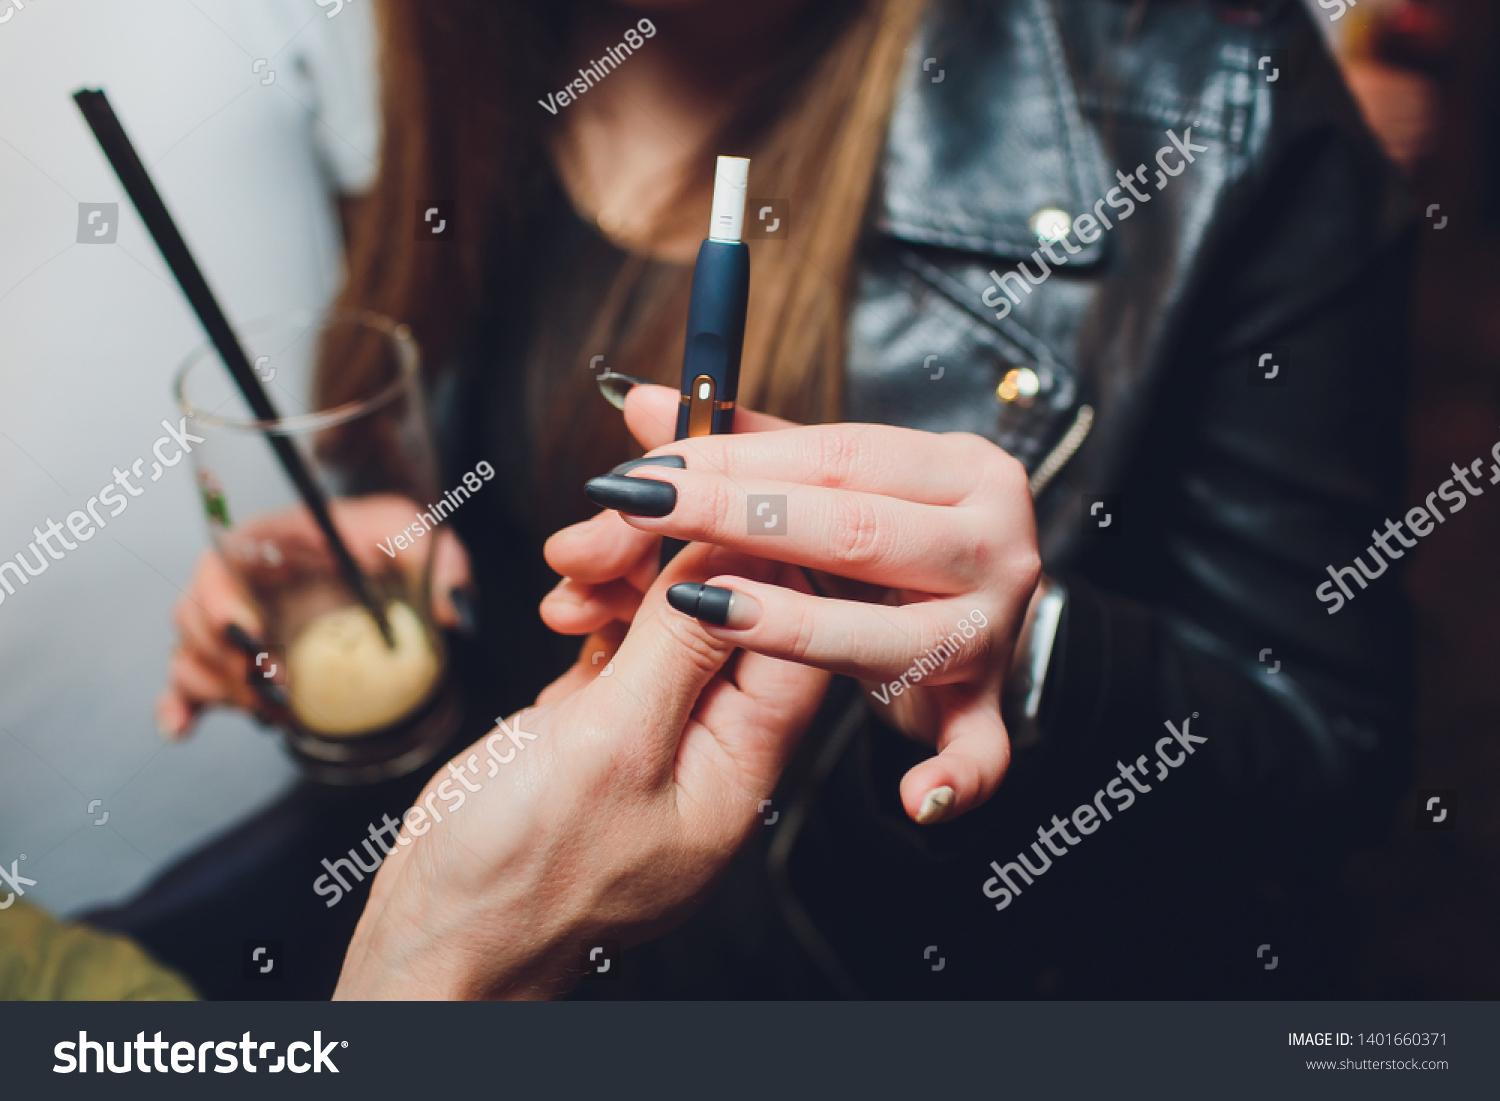iqos: (677, 156, 749, 438)
